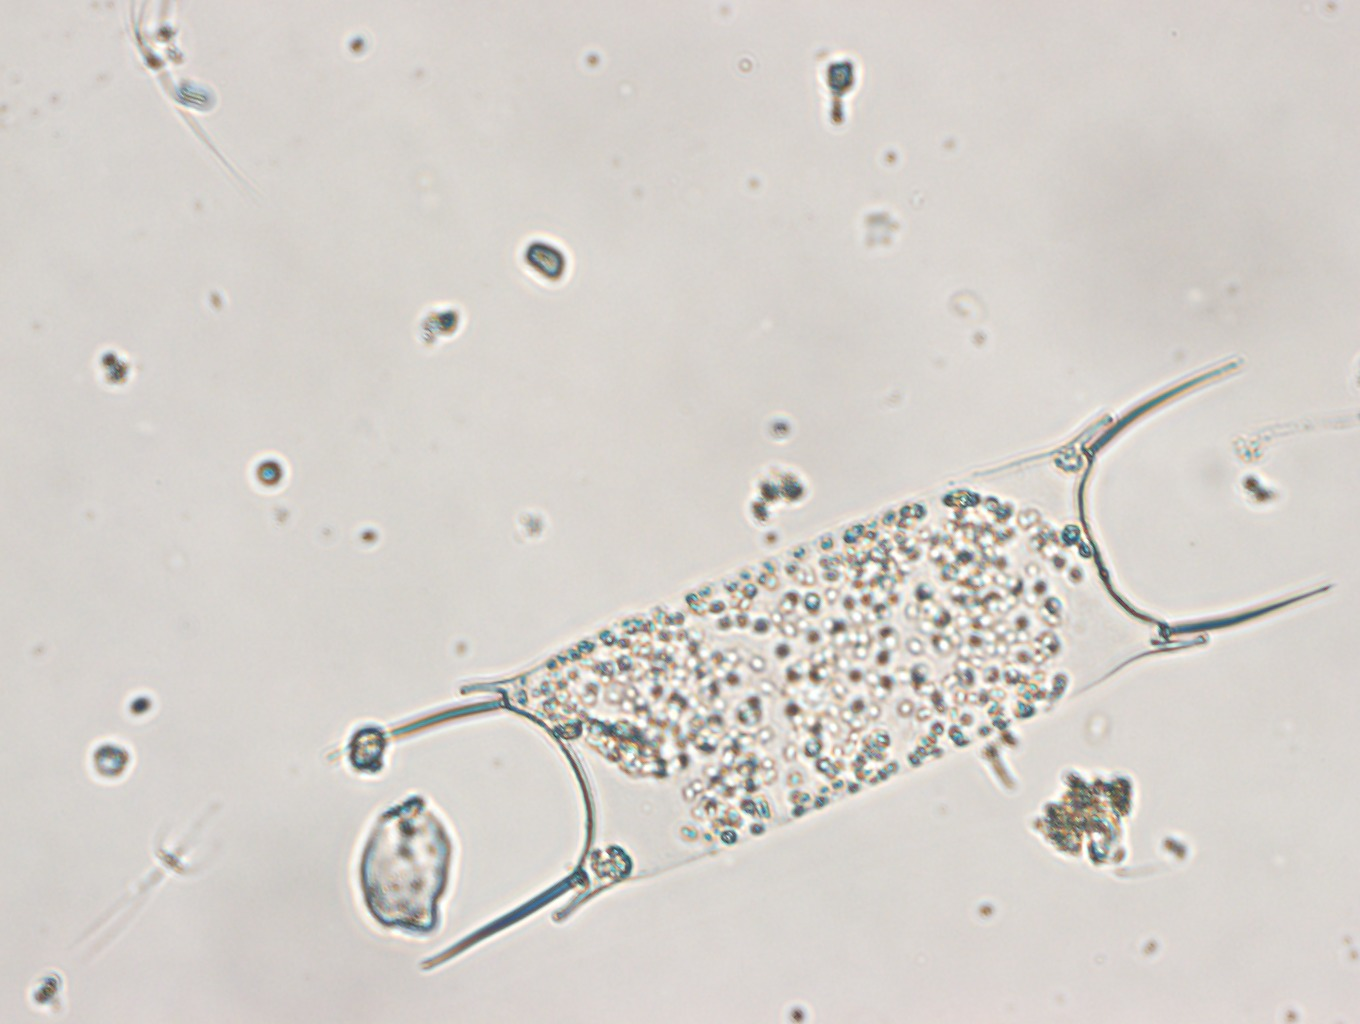biddulphia: (364, 362, 1341, 959)
